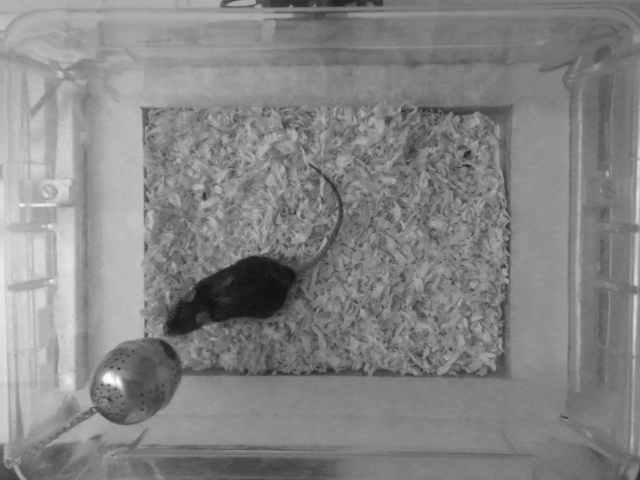mice: (160, 162, 342, 337)
